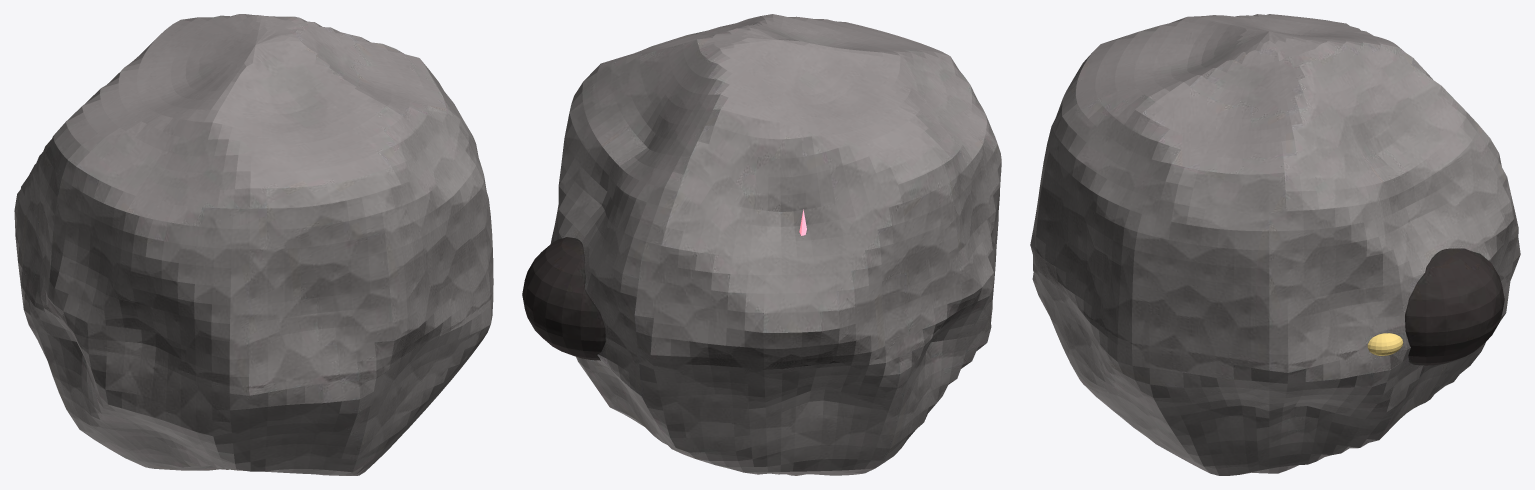
File: drachenhort.glb
3 views of the same model, side by side, from view 1: azimuth 30°, elevation 25°; view 2: azimuth 150°, elevation 25°; view 3: azimuth 270°, elevation 25° (orthographic). The views are drawn at different scales.
Parts seen in each view (by area): view 1: drachenhort; view 2: drachenhort; view 3: drachenhort, drachenhort_details.
Boxes of the visible parts, bbox=[...] form: drachenhort: bbox=[14, 14, 493, 475]; drachenhort: bbox=[522, 14, 1001, 475]; drachenhort: bbox=[1030, 14, 1520, 475]; drachenhort_details: bbox=[1367, 333, 1403, 355].
Size of the model in its own units: 0.8372 by 0.8045 by 0.875.
Materials: 3 (1 with a texture image).
